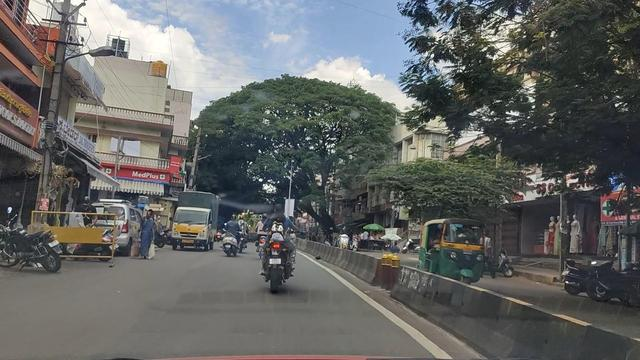HMV: (174, 189, 218, 253)
LMV: (255, 204, 300, 286), (223, 206, 244, 258)
